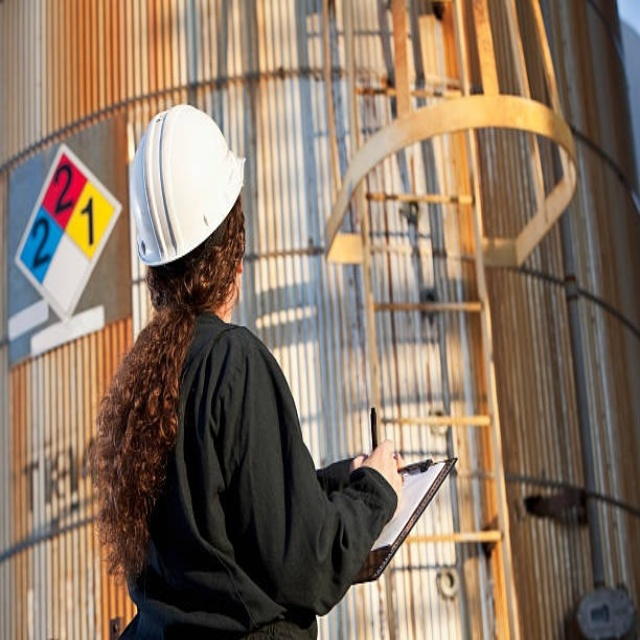Sin_guantes: (358, 437, 401, 492)
